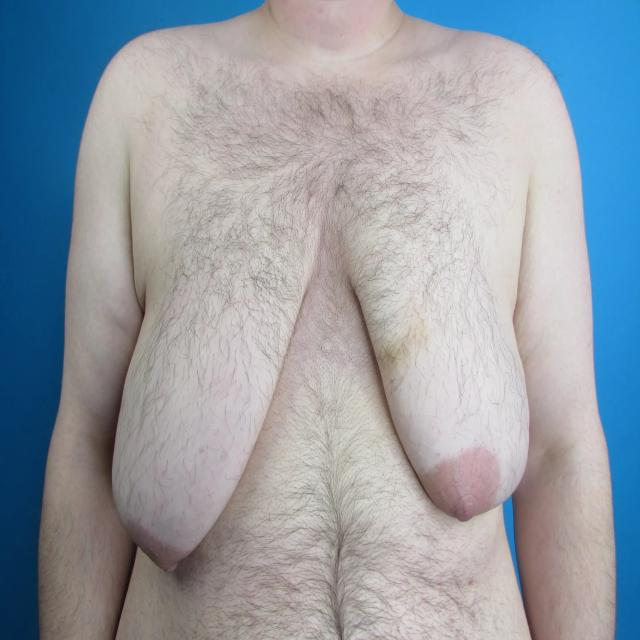Seno ileso: (106, 213, 320, 598), (335, 212, 535, 542)
